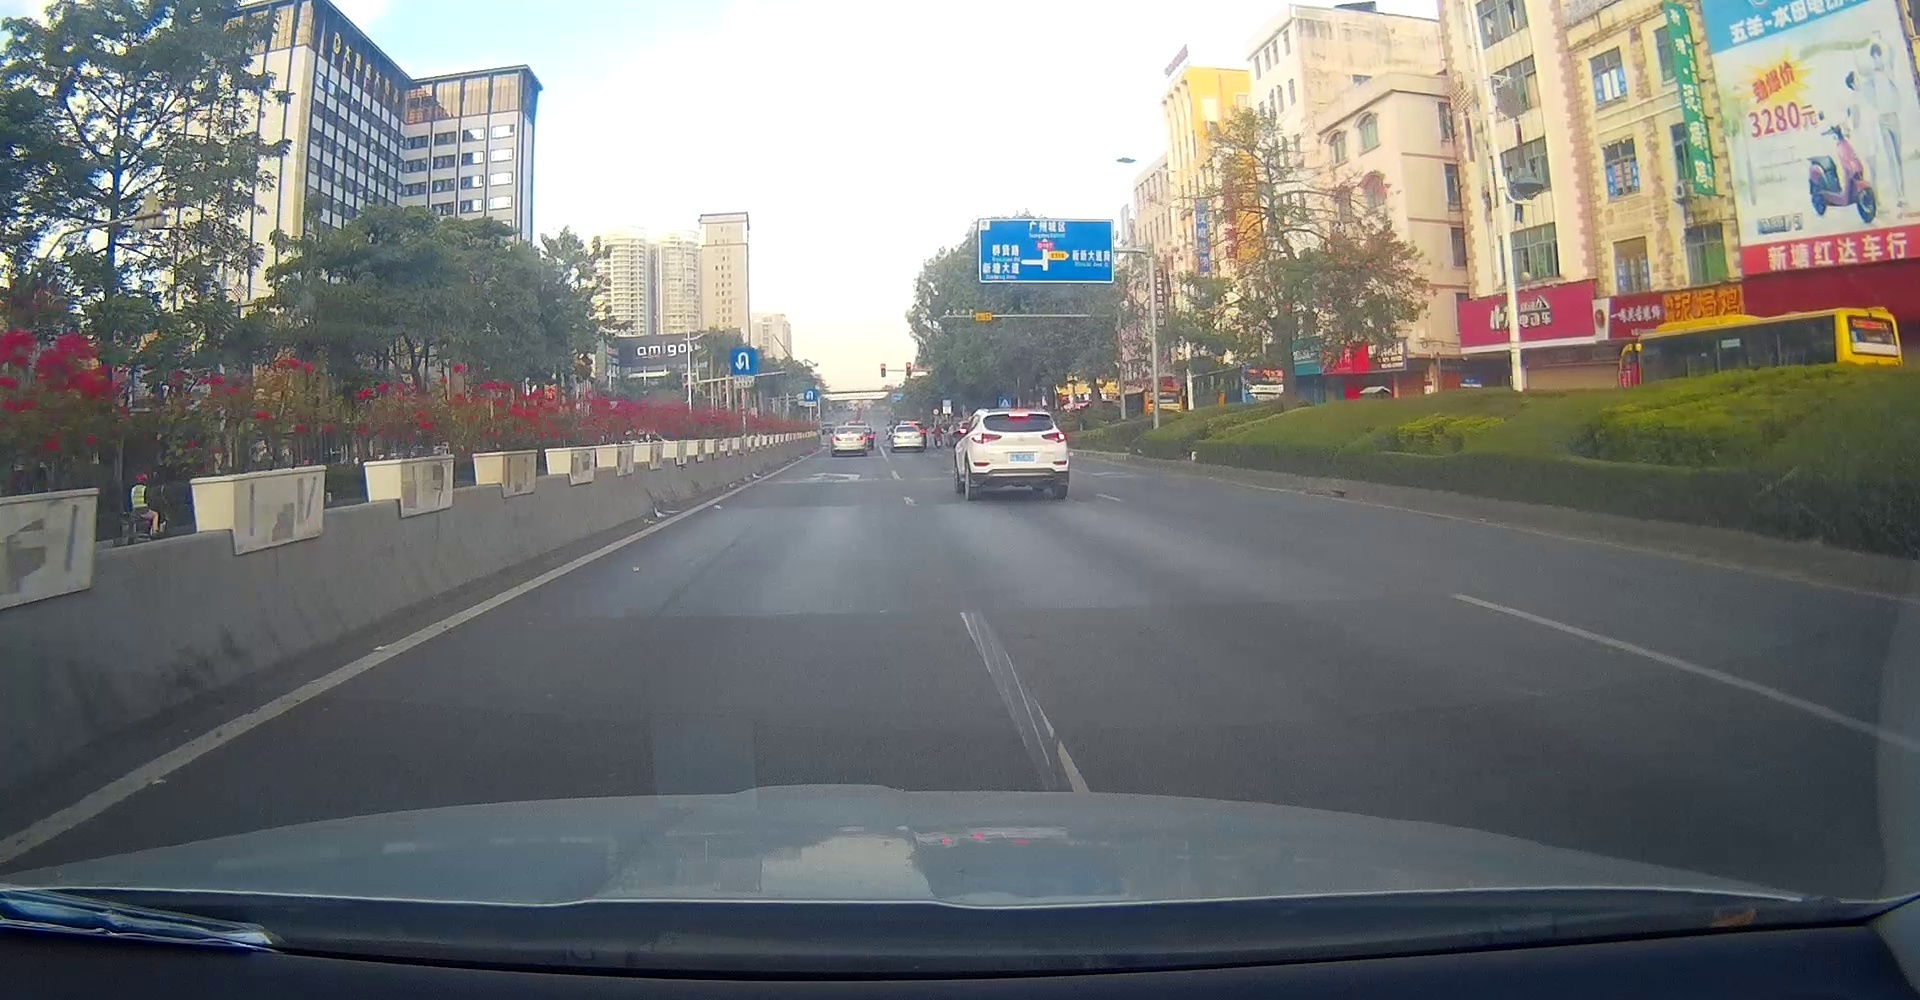L_light: (970, 431, 1002, 444), (834, 437, 842, 442)
R_light: (1040, 431, 1065, 443), (857, 435, 866, 442)
T_light: (1010, 412, 1029, 418), (847, 428, 852, 429)
day-brake: (968, 409, 1069, 499)
day-no: (830, 425, 869, 457)
